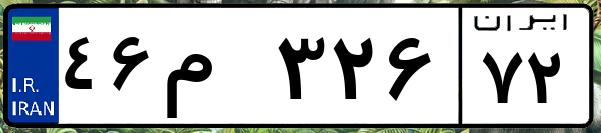2: (330, 28, 385, 110), (525, 38, 570, 115)
3: (270, 28, 330, 110)
4: (57, 26, 110, 100)
6: (385, 28, 445, 110), (110, 28, 158, 98)
7: (475, 38, 525, 113)
م: (158, 20, 270, 120)
